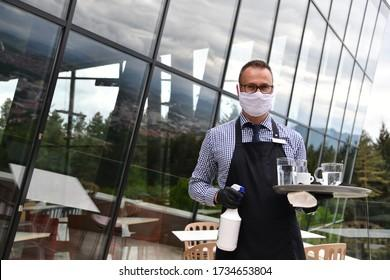gloves: (216, 187, 243, 209)
